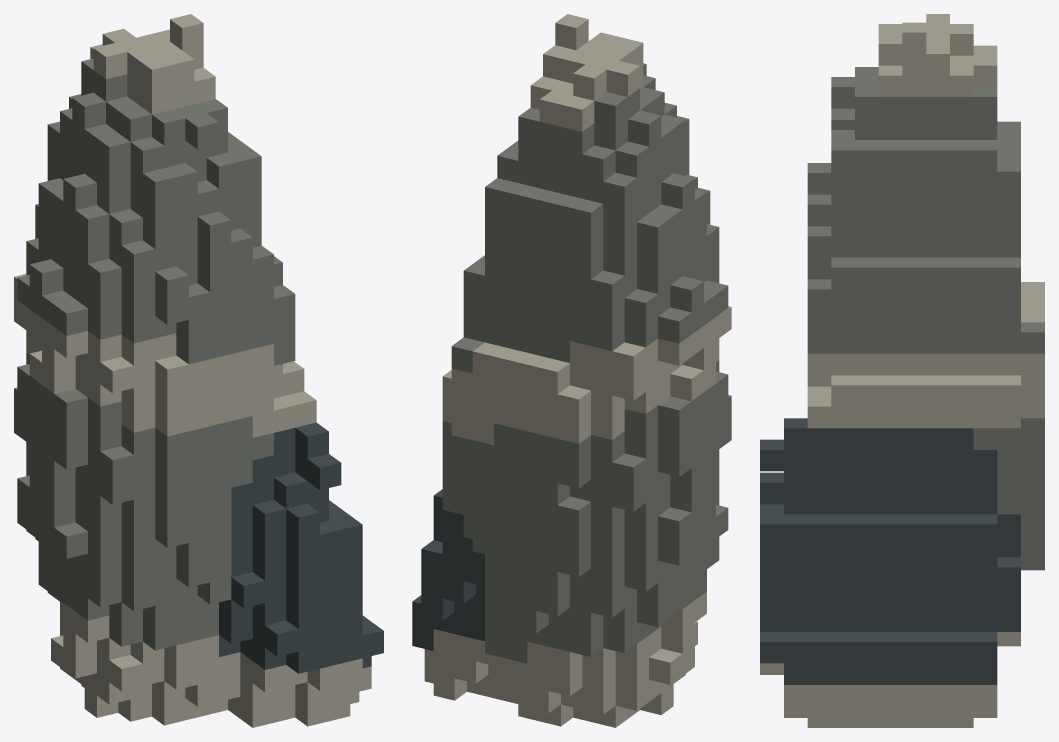
Rendered from layered_rock_v2_species1_near.glb.
3 renders of one model, left to right at view 1: azimuth 30°, elevation 25°; view 2: azimuth 150°, elevation 25°; view 3: azimuth 270°, elevation 25°, orthographic. The views are drawn at different scales.
Parts seen in each view (by area): view 1: layered_rock_v2_species1_near; view 2: layered_rock_v2_species1_near; view 3: layered_rock_v2_species1_near.
Boxes of the visible parts, x1=… form: layered_rock_v2_species1_near: x1=14, y1=14, x2=383, y2=727; layered_rock_v2_species1_near: x1=412, y1=14, x2=731, y2=727; layered_rock_v2_species1_near: x1=760, y1=14, x2=1044, y2=727.
Bounding box in the file's own units: 1.5 × 3.75 × 1.5.
1 material, 1 textured.
